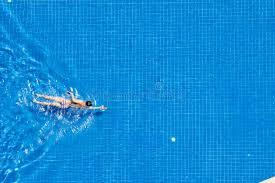swimmer: (32, 91, 110, 113)
